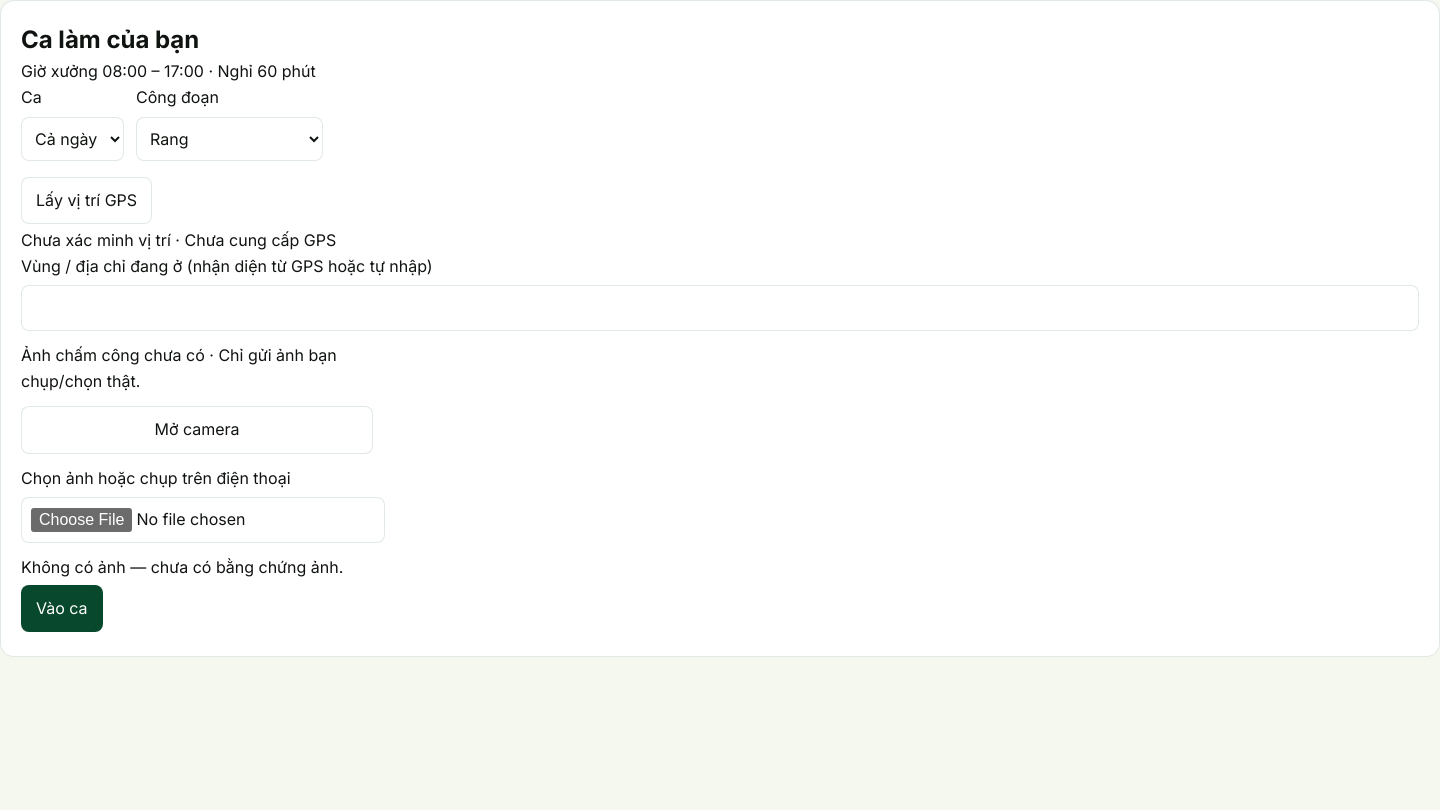
Scenario: real check-in › previews genuine GPS distance, sends only device coordinates, and clears evidence before checkout
This screenshot has width=1440, height=810.
Click the button "Lấy vị trí GPS": (87,200) [21, 177, 152, 224]
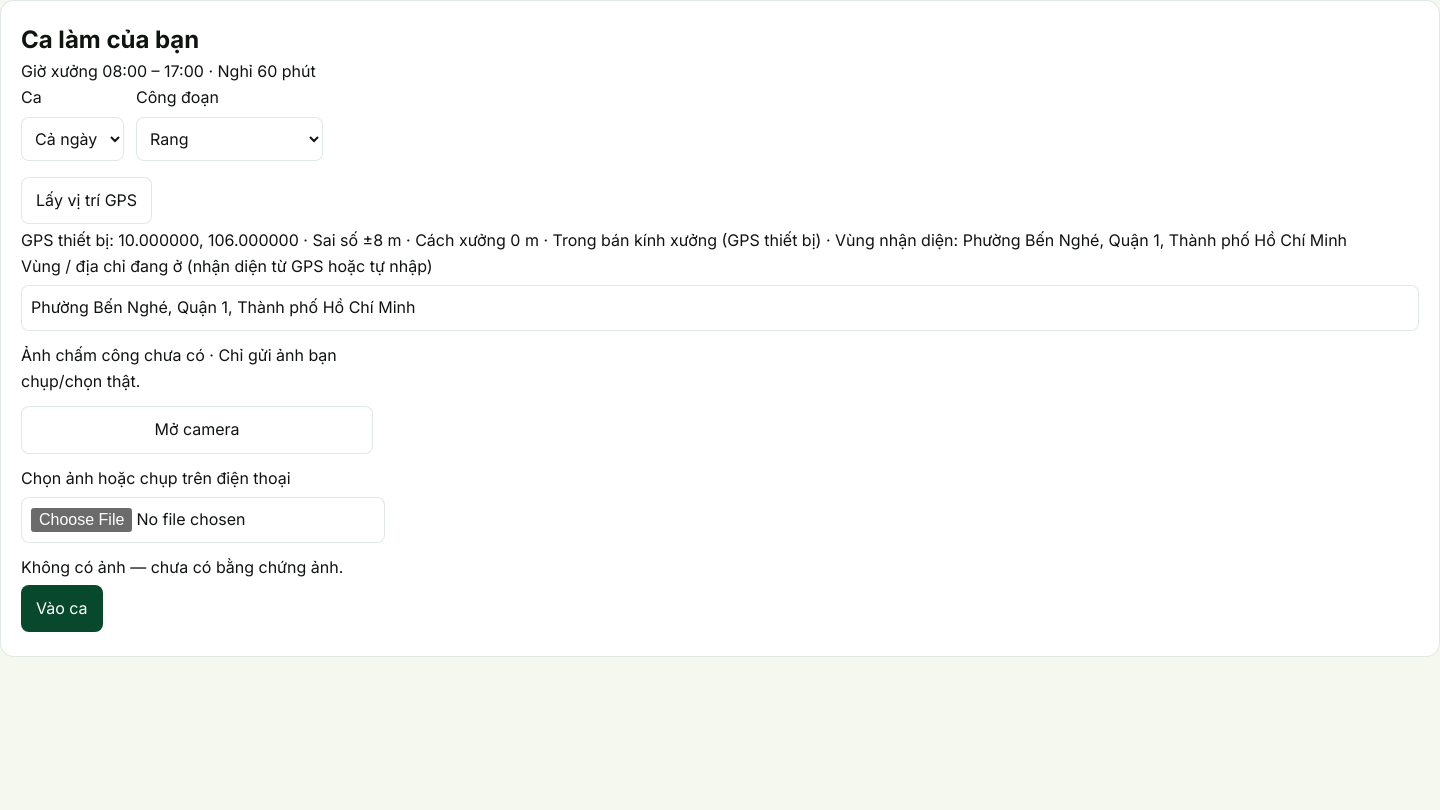
Expected: the text "Vùng nhận diện: Phường Bến Nghé, Quận 1, Thành phố Hồ Chí Minh" is shown, [821, 230, 1347, 250]
Expected: the text "Cách xưởng 0 m" is shown, [402, 230, 539, 250]
Expected: the text "Trong bán kính xưởng" is shown, [553, 230, 821, 250]
Click the button "Vào ca": (62,608) [21, 584, 103, 632]
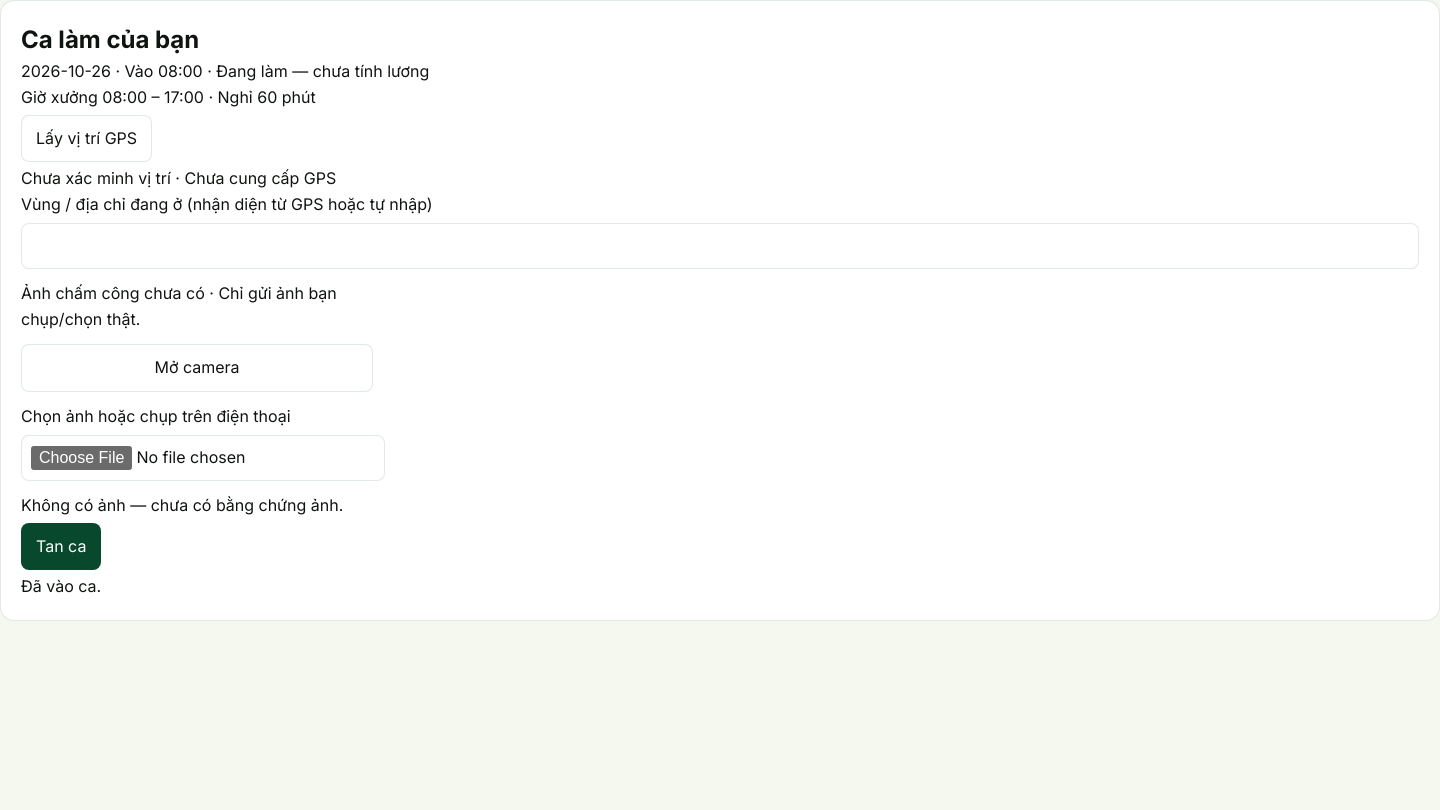
Expected: the button "Tan ca" is shown, [21, 522, 101, 570]
Expected: the text "Chưa xác minh vị trí · Chưa cung cấp GPS" is shown, [21, 168, 336, 188]
